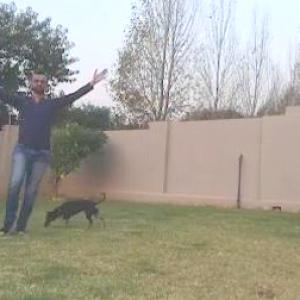takeoff: (0, 57, 116, 249)
